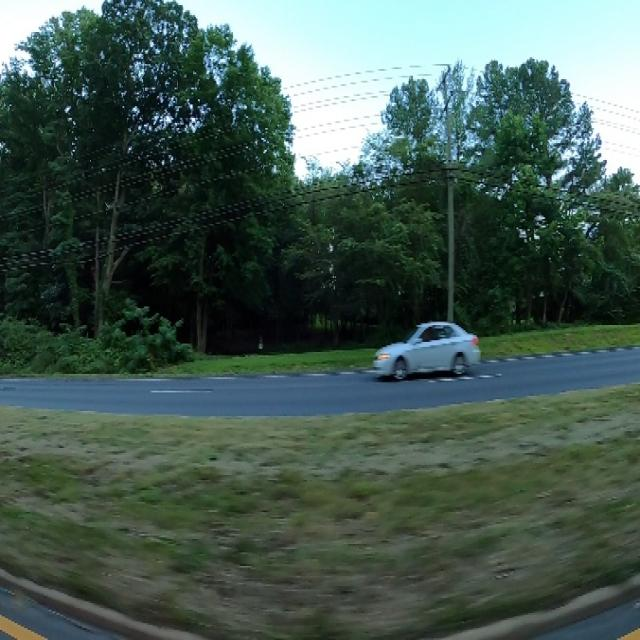car: (366, 302, 483, 394)
